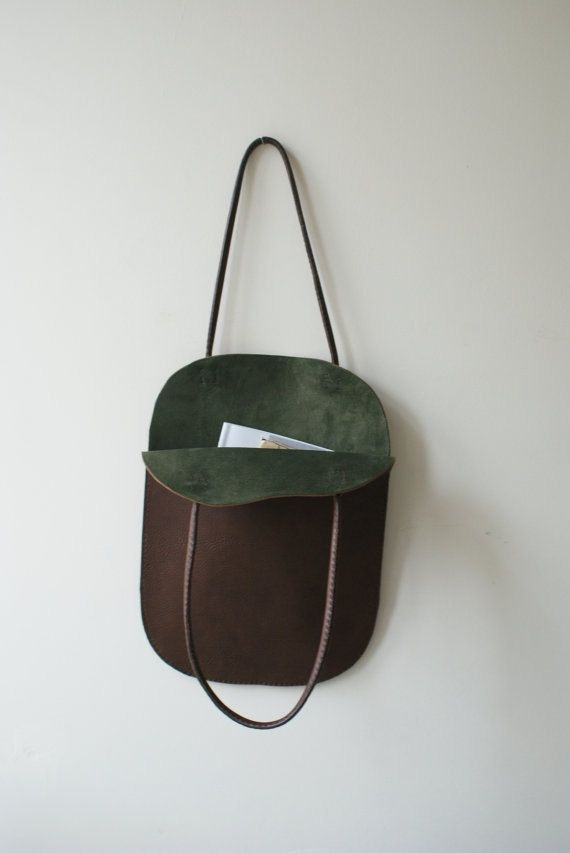gamuza: (140, 353, 392, 503)
